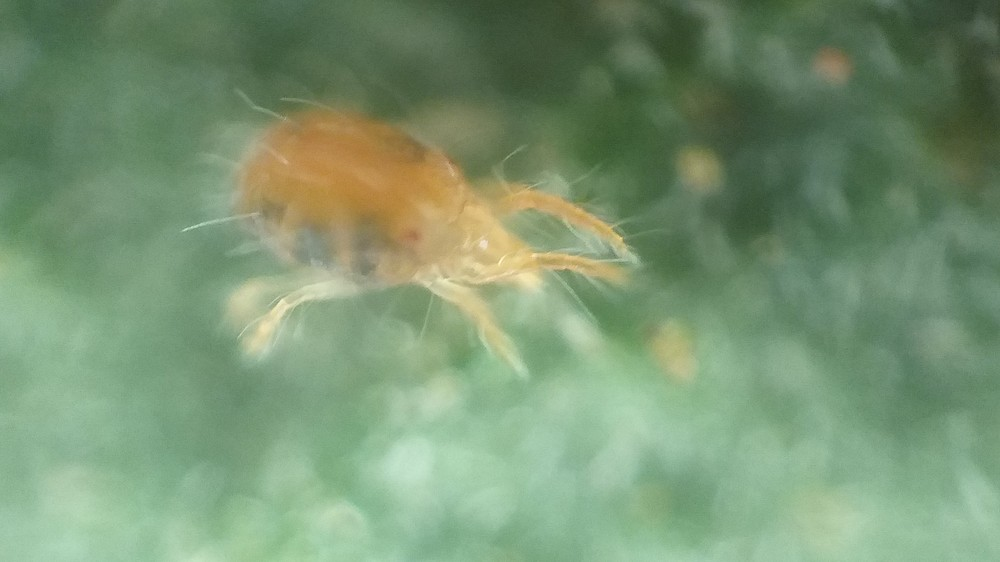Aracnido Rojo: (172, 77, 671, 408)
